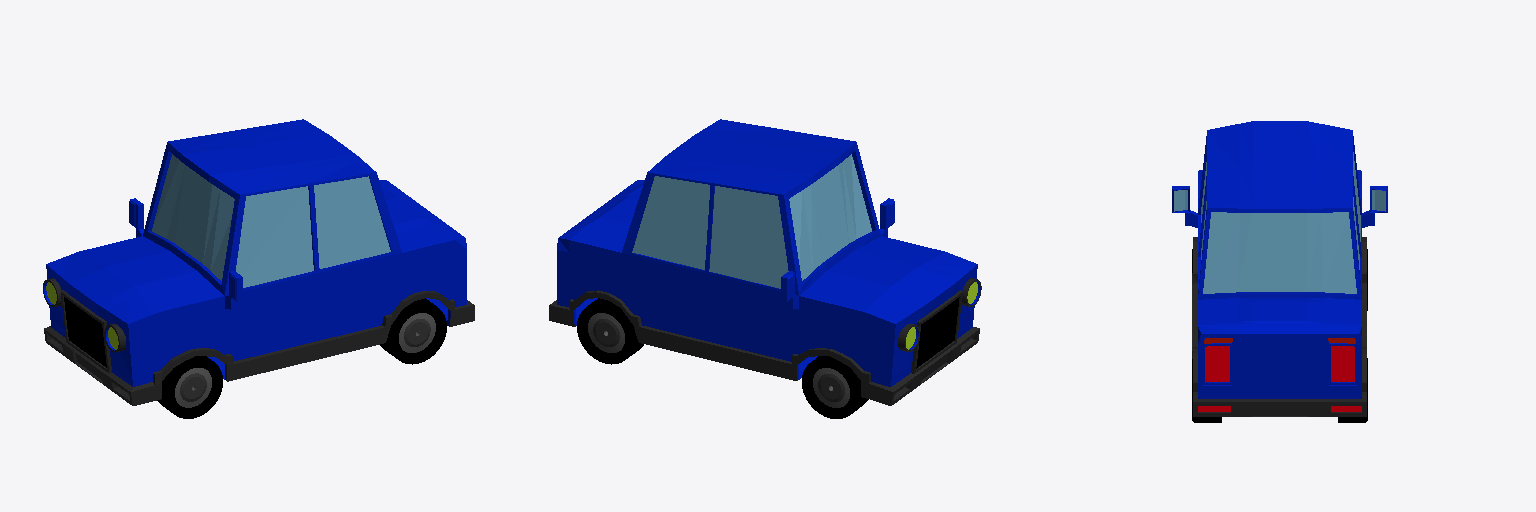
File: car.obj
3 views of the same model, side by side, from view 1: azimuth 30°, elevation 25°; view 2: azimuth 150°, elevation 25°; view 3: azimuth 270°, elevation 25° (orthographic).
Parts seen in each view (by area): view 1: Cube_Cube.001, Cylinder, Cylinder.001_Cylinder.005; view 2: Cube_Cube.001, Cylinder.002_Cylinder.006, Cylinder.005_Cylinder.007; view 3: Cube_Cube.001.
Boxes of the visible parts, <box> form: Cube_Cube.001: <box>43,119,474,405</box>; Cylinder: <box>157,356,222,418</box>; Cylinder.001_Cylinder.005: <box>380,298,446,364</box>; Cube_Cube.001: <box>549,119,981,405</box>; Cylinder.002_Cylinder.006: <box>577,298,643,364</box>; Cylinder.005_Cylinder.007: <box>802,356,868,418</box>; Cube_Cube.001: <box>1172,121,1387,416</box>.
Size of the model in its own units: 5.97 by 3.44 by 3.18.